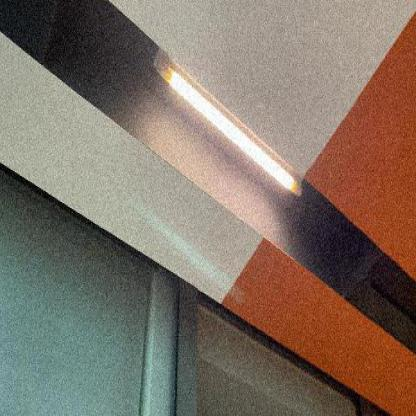light_on: (138, 46, 306, 230)
